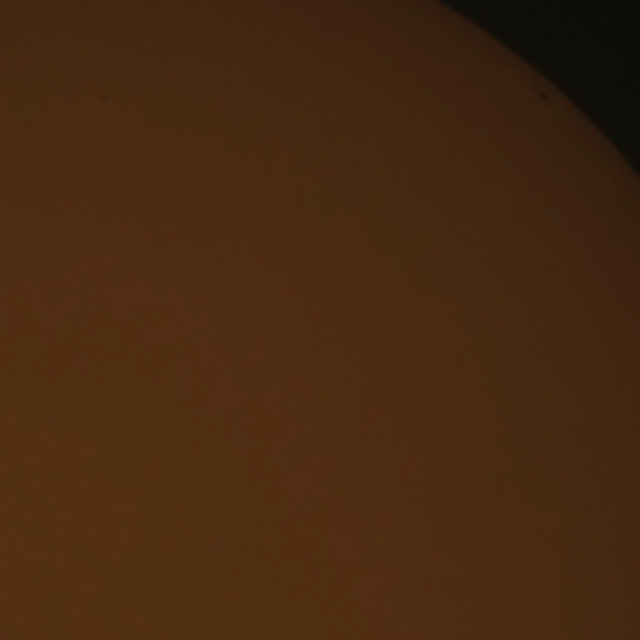sunspot: (98, 93, 110, 106)
